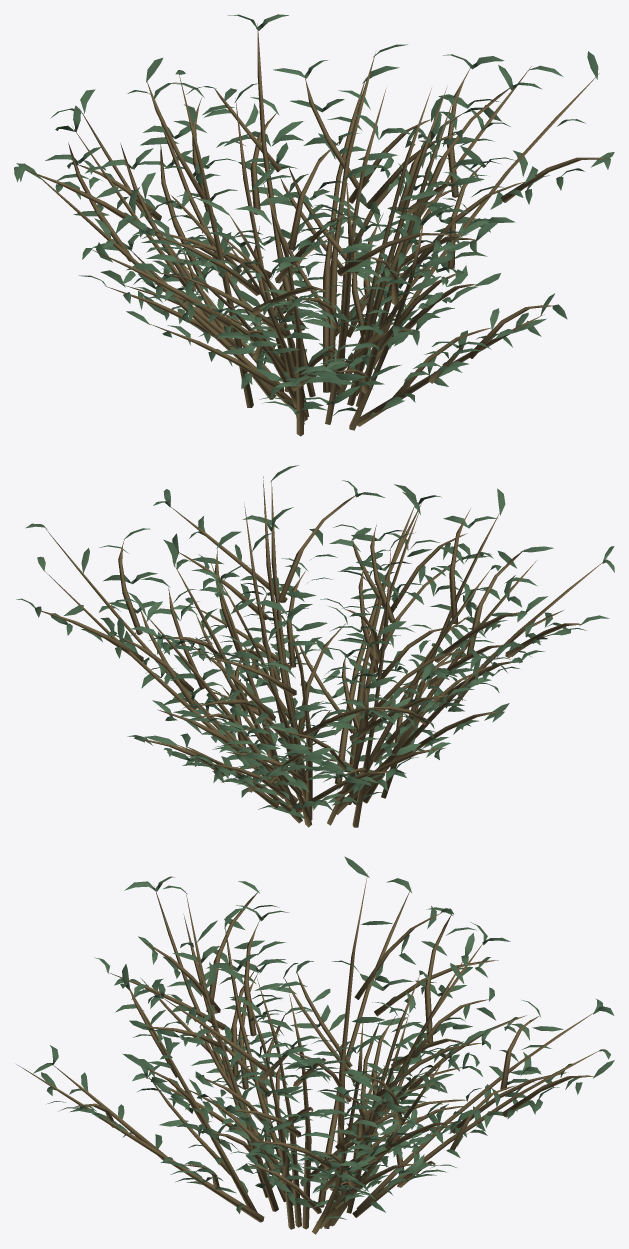
File: Romarin_Jeune_LOD1.fbx
The picture shows the model from 3 angles, top to bottom: view 1: azimuth 30°, elevation 25°; view 2: azimuth 150°, elevation 25°; view 3: azimuth 270°, elevation 25°; orthographic projection. The views are drawn at different scales.
Parts seen in each view (by area): view 1: Romarin_Jeune_LOD1; view 2: Romarin_Jeune_LOD1; view 3: Romarin_Jeune_LOD1.
Boxes of the visible parts, box(x1,y1,x2,y2) form: Romarin_Jeune_LOD1: box(14, 14, 614, 436); Romarin_Jeune_LOD1: box(16, 465, 614, 827); Romarin_Jeune_LOD1: box(16, 856, 614, 1234).
Bounding box in the file's own units: 60.35 × 34.88 × 61.7.
